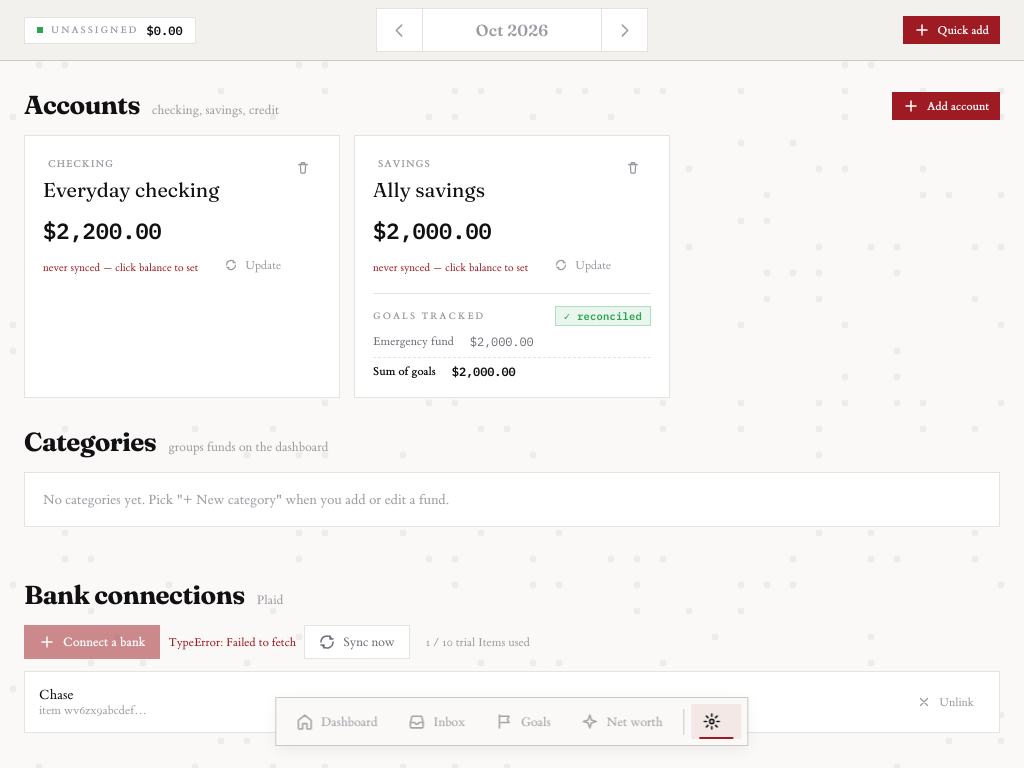
Test: Settings › labels a database sync failure as an application issue, not a Plaid issue
Click the button "Sync now": (357, 642) [304,625,410,659]
(page scrolled)
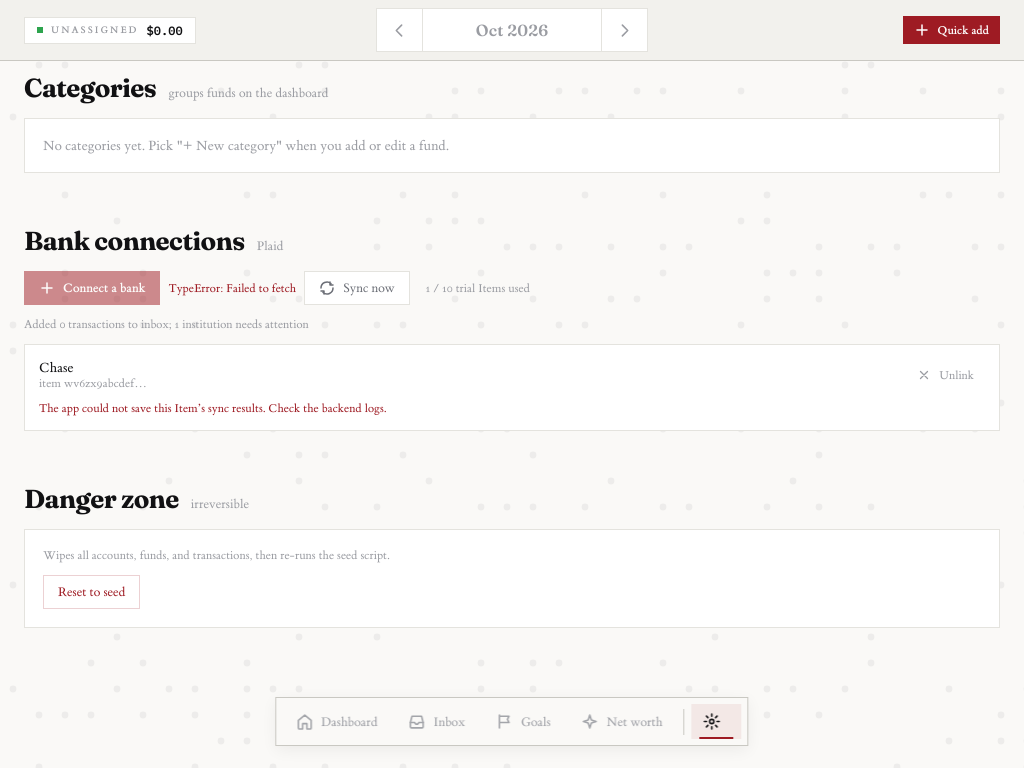
Expected: the text "The app could not save this Item’s sync results. Check the backend logs." is shown, [39,401,386,416]
